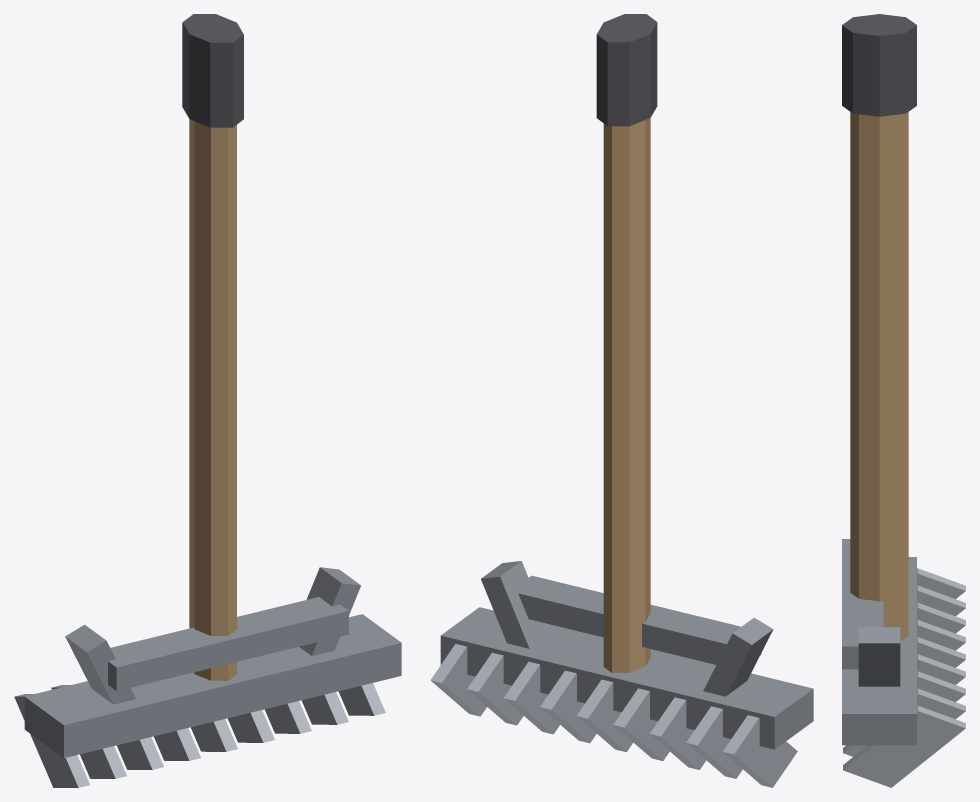
File: rake.glb
3 renders of one model, left to right at view 1: azimuth 30°, elevation 25°; view 2: azimuth 150°, elevation 25°; view 3: azimuth 270°, elevation 25°, orthographic. The views are drawn at different scales.
Visible parts, largest first — view 1: rake; view 2: rake; view 3: rake.
Boxes of the visible parts, box(x1,y1,x2,y2) form: rake: box(14, 14, 401, 787); rake: box(430, 14, 813, 787); rake: box(842, 14, 965, 787).
Bounding box in the file's own units: 0.75 × 1.54 × 0.25.
